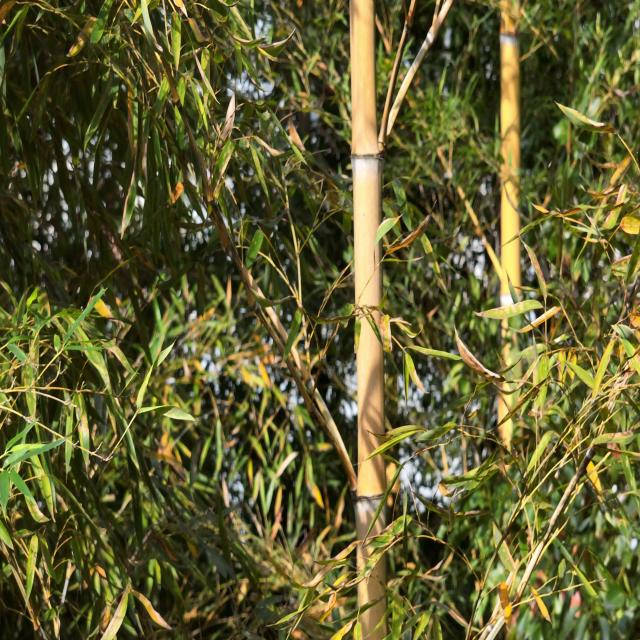Bamboo-shoots: (350, 0, 388, 640)
